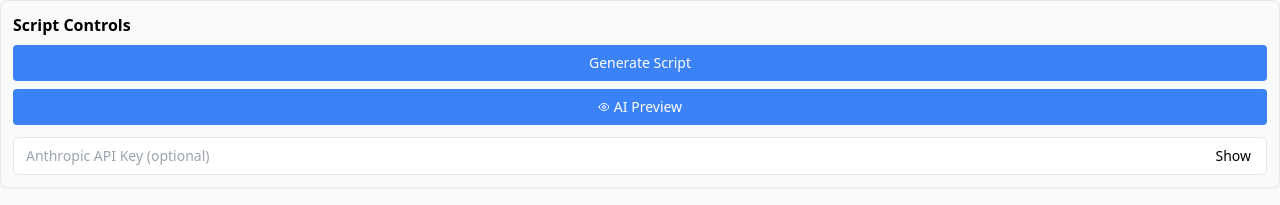
Scenario: ScriptGenerationPanel component › toggles API key visibility when toggle button is clicked
Click to show
Click the button with test id "toggle-api-key-visibility". click: (1233, 156)
box: [1208, 142, 1259, 170]
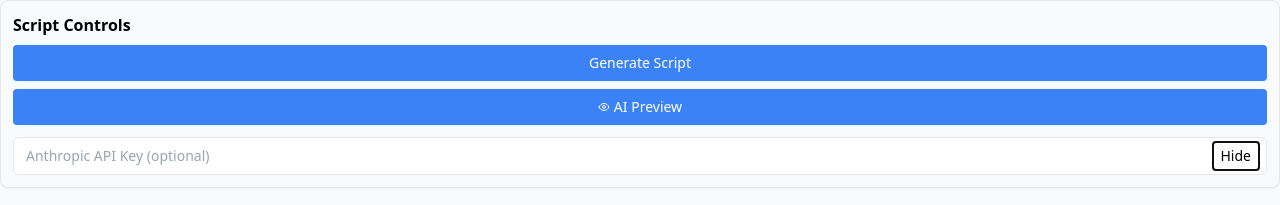
expect the button with test id "toggle-api-key-visibility" reads "Hide": met
Click to hide again
Click the button with test id "toggle-api-key-visibility". click: (1236, 156)
box: [1212, 142, 1259, 170]
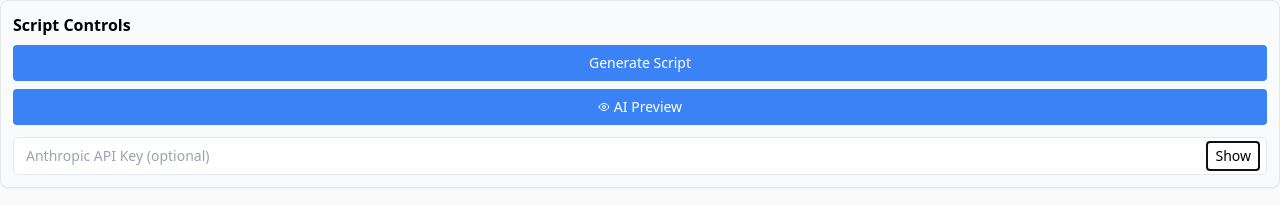
expect the button with test id "toggle-api-key-visibility" reads "Show": met, box [1208, 142, 1259, 170]
